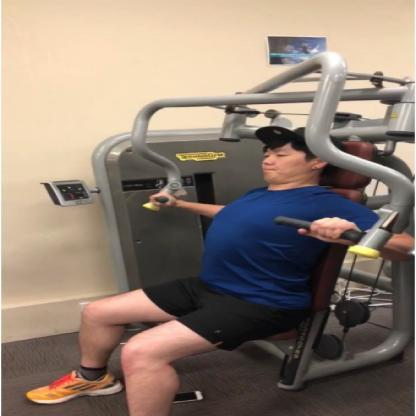Chest Press machine: (26, 47, 416, 416)
